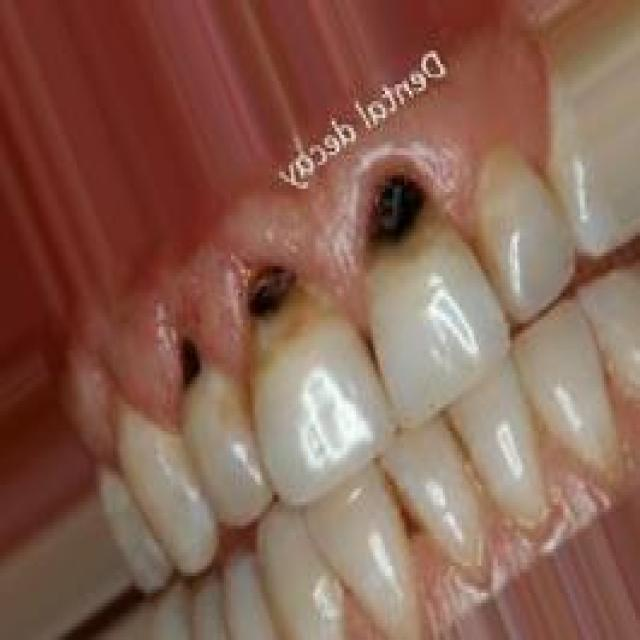caries: (347, 146, 469, 289), (226, 226, 342, 367), (155, 314, 234, 408)
